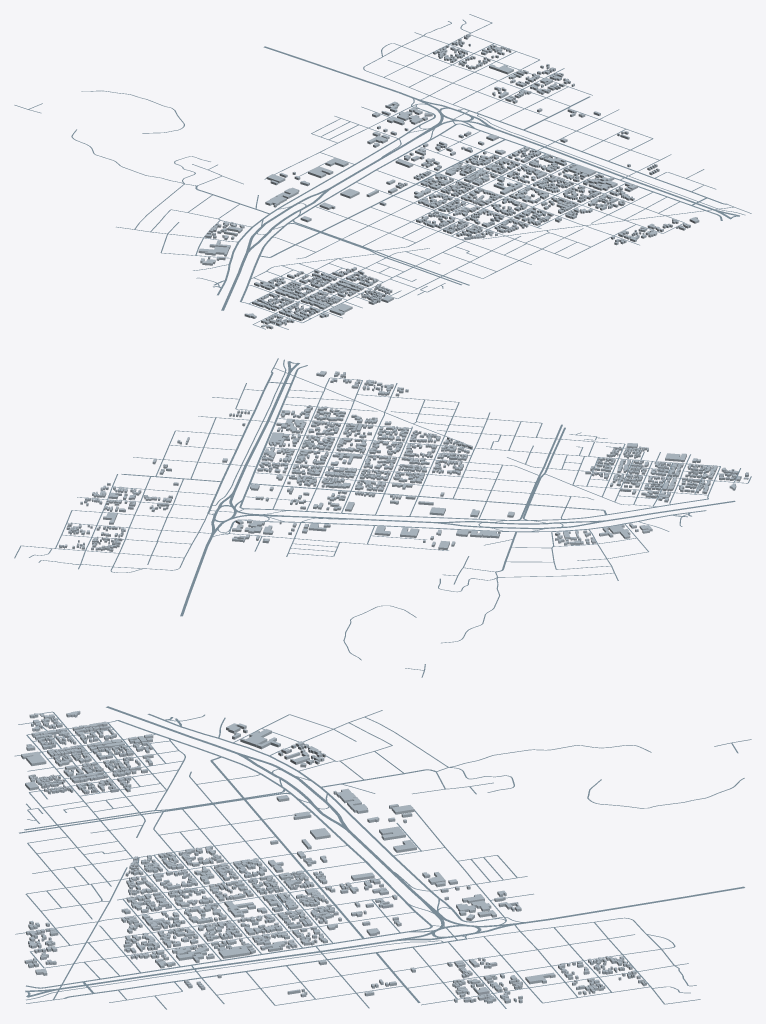
3 renders of one model, top to bottom at view 1: azimuth 30°, elevation 25°; view 2: azimuth 150°, elevation 25°; view 3: azimuth 270°, elevation 25°, orthographic. The views are drawn at different scales.
Bounding box in the file's own units: 2005 × 8 × 2059.
